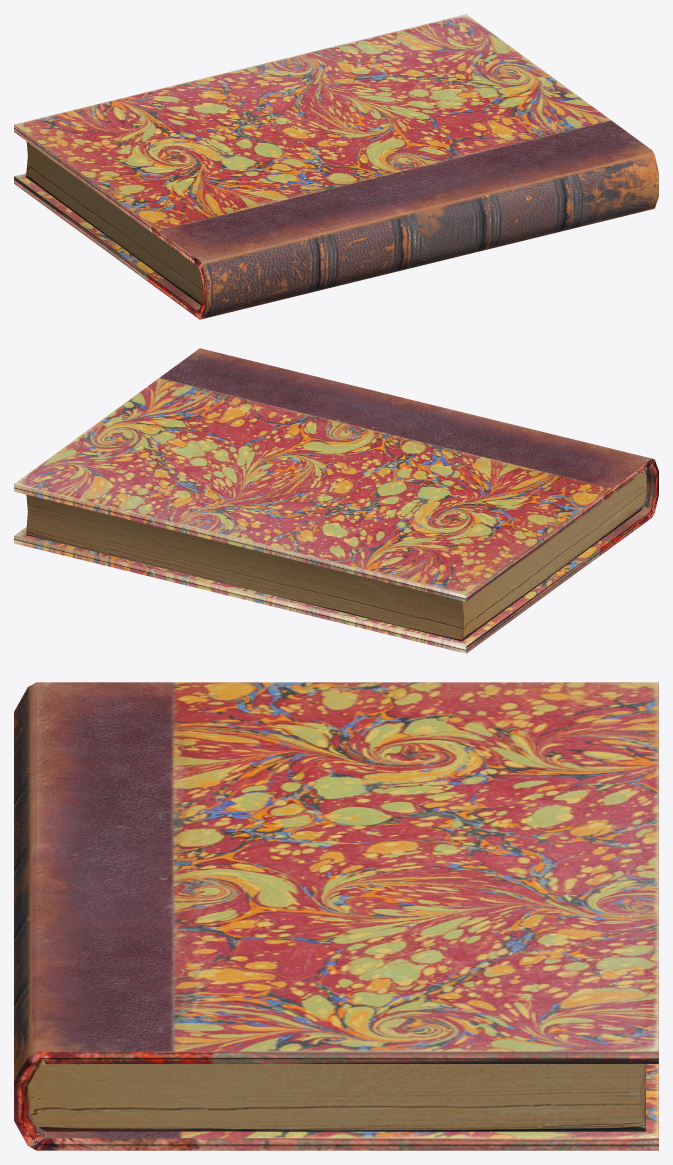
File: Book03.FBX
3 views of the same model, one above another, from view 1: azimuth 30°, elevation 25°; view 2: azimuth 150°, elevation 25°; view 3: azimuth 270°, elevation 25° (orthographic). The views are drawn at different scales.
Visible parts, largest first — view 1: Book03; view 2: Book03; view 3: Book03.
Boxes of the visible parts, <box> form: Book03: <box>14,14,658,319</box>; Book03: <box>14,348,658,653</box>; Book03: <box>14,682,658,1150</box>.
Bounding box in the file's own units: 12.6 × 9.29 × 1.57.
